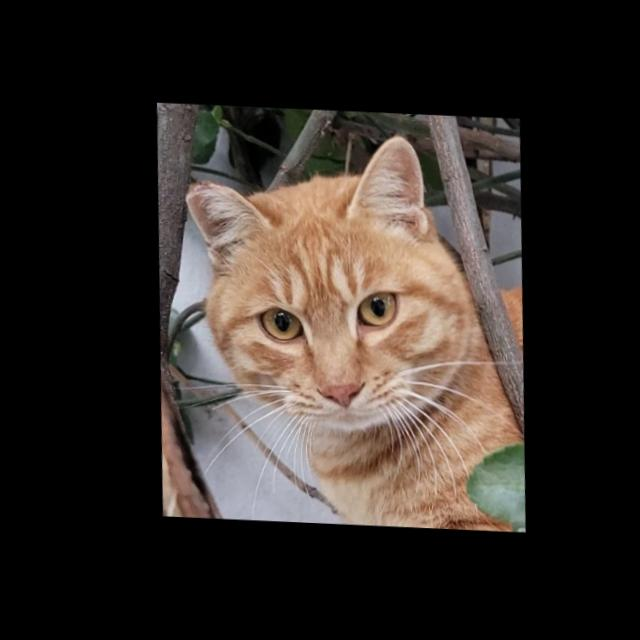animals: (156, 119, 488, 442)
